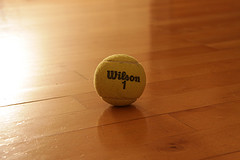tennis ball: (92, 53, 148, 109)
